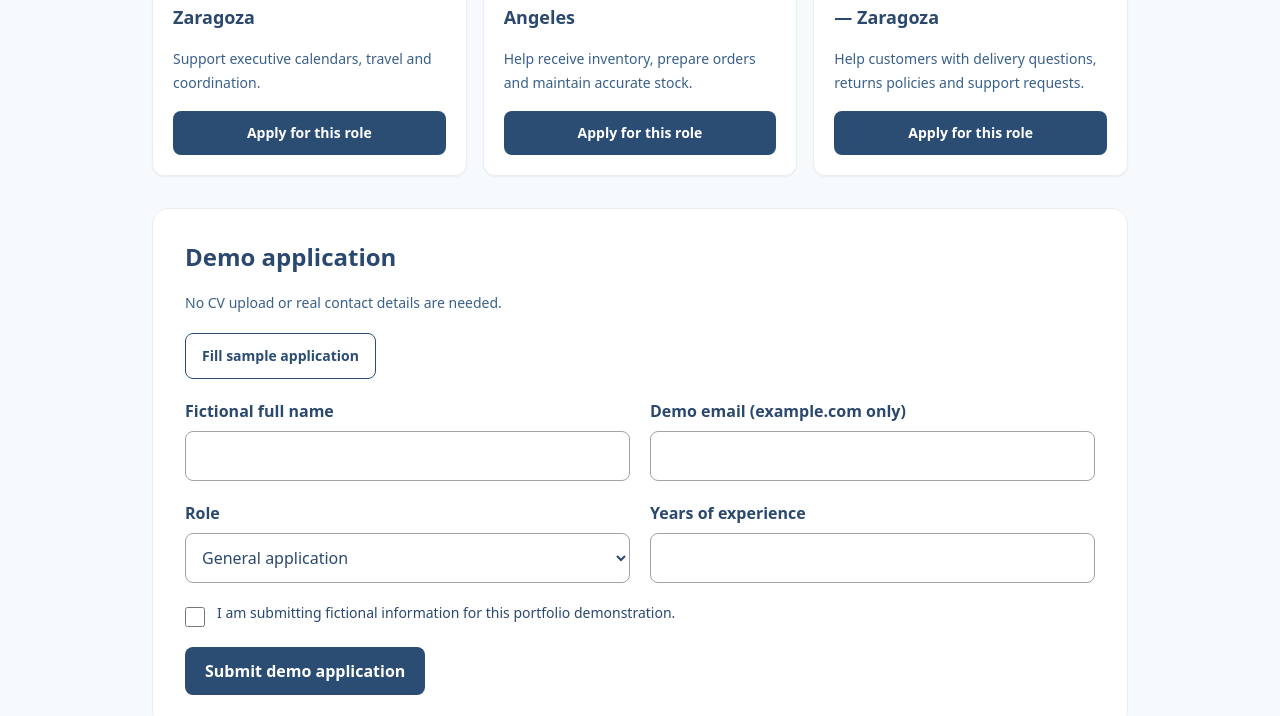
Test: careers demonstration › keeps ambiguous failures visible and prevents another write
(page scrolled)
Click the button "Fill sample application": (280, 356) 185,333 -> 376,379
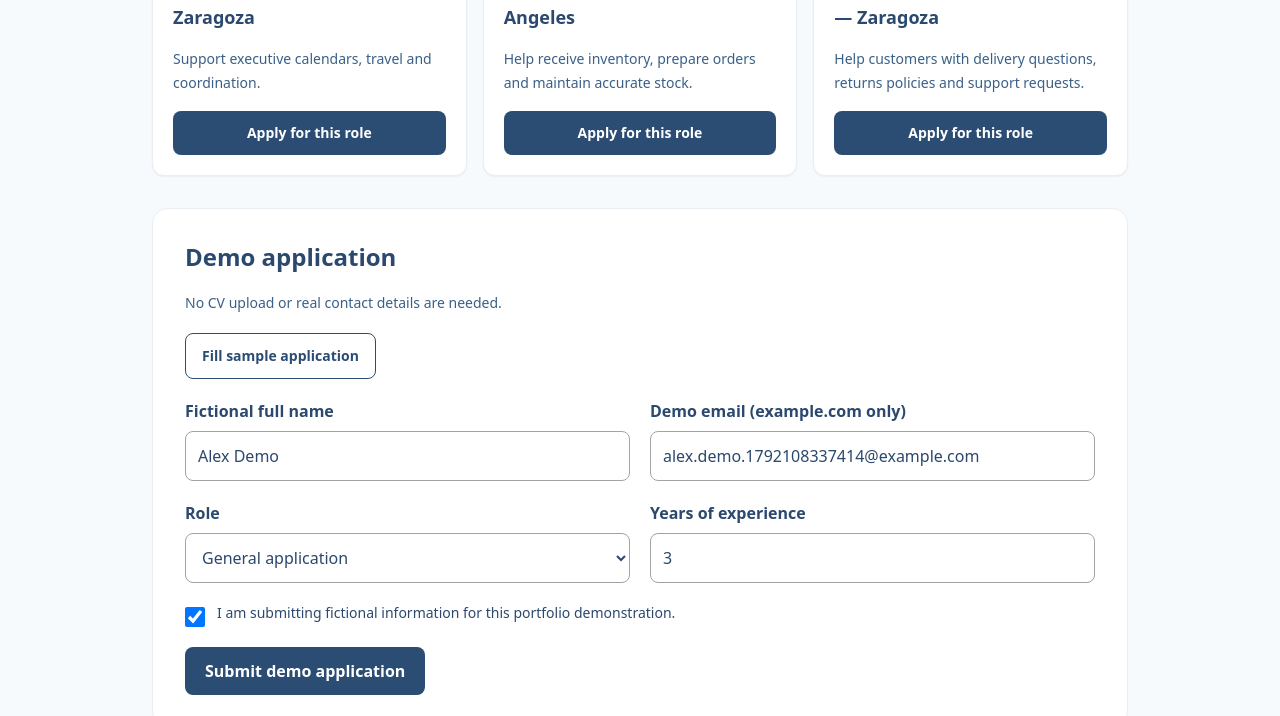
Click the button "Submit demo application": (305, 671) 185,647 -> 425,695
(page scrolled)
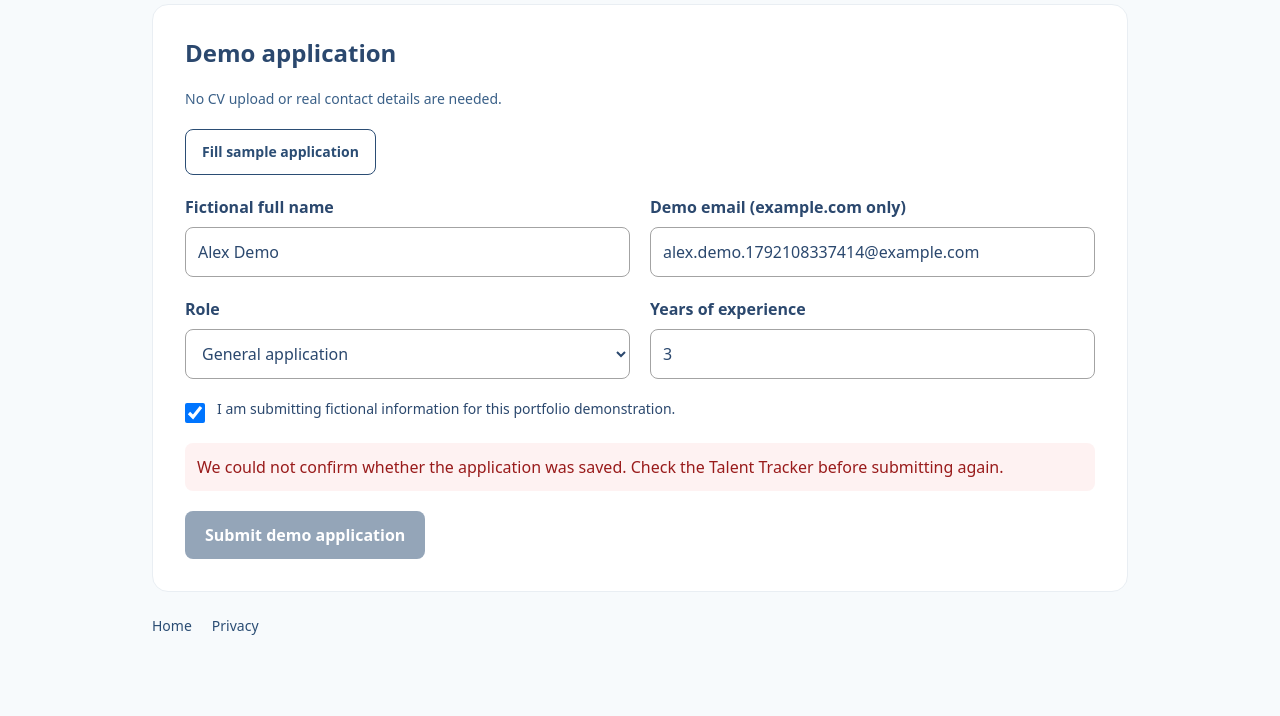
Now the message shows "Check the Talent Tracker before submitting again", box 197,456 -> 1004,478
Now the button "Submit demo application" is disabled, box 185,511 -> 425,559
